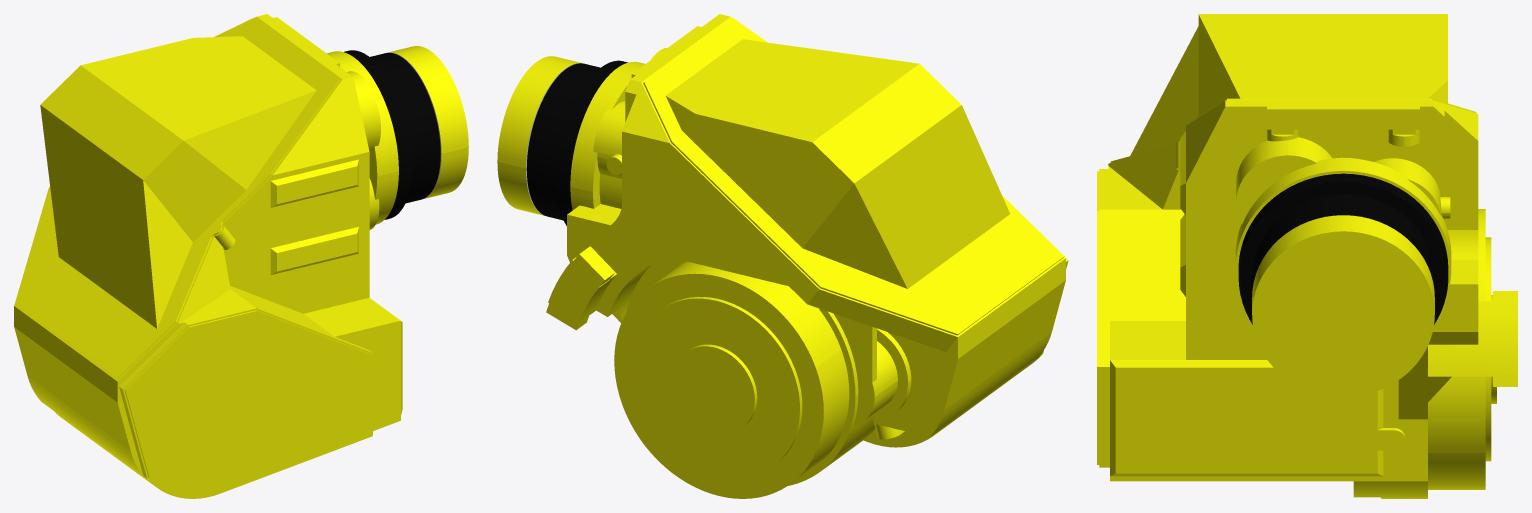
3 renders of one model, left to right at view 1: azimuth 30°, elevation 25°; view 2: azimuth 150°, elevation 25°; view 3: azimuth 270°, elevation 25°, orthographic. The views are drawn at different scales.
Visible parts, largest first — view 1: Mesh_0; view 2: Mesh_0; view 3: Mesh_0.
Part boxes in pixels (bbox=[...]): Mesh_0: bbox=[14, 14, 468, 498]; Mesh_0: bbox=[497, 14, 1068, 498]; Mesh_0: bbox=[1097, 14, 1517, 498].
Bounding box in the file's own units: 0.5107 × 0.374 × 0.4335.
